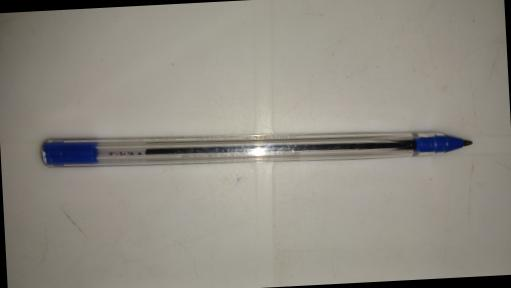pen: (40, 116, 474, 177)
